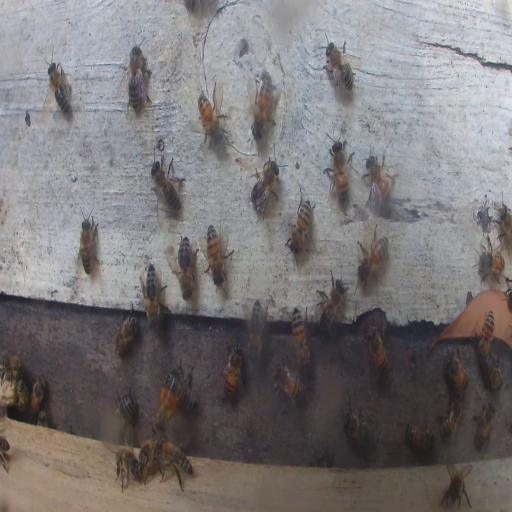bee: (324, 122, 352, 207), (151, 153, 186, 213), (316, 273, 351, 333), (157, 436, 192, 492), (204, 222, 233, 289), (124, 46, 151, 116), (356, 229, 388, 286), (138, 262, 166, 327), (196, 84, 225, 146), (323, 40, 356, 94), (250, 157, 280, 215), (440, 460, 474, 511), (287, 188, 313, 253), (365, 152, 394, 207), (251, 74, 276, 137), (156, 369, 179, 435), (46, 59, 71, 116), (342, 403, 375, 443), (273, 363, 304, 405), (222, 342, 243, 399), (176, 233, 194, 297), (80, 211, 98, 275), (437, 394, 462, 440), (114, 447, 138, 493), (247, 297, 263, 365), (472, 401, 494, 450), (292, 305, 309, 368), (367, 323, 388, 373), (445, 351, 469, 393), (404, 422, 436, 452), (114, 316, 138, 355), (477, 246, 506, 278), (479, 308, 495, 361), (177, 366, 194, 413), (138, 438, 156, 478), (30, 374, 46, 416), (497, 204, 512, 248), (116, 389, 135, 423), (1, 353, 21, 380), (489, 356, 501, 390), (15, 379, 27, 409), (312, 448, 329, 467), (1, 434, 9, 469), (38, 407, 49, 424)
